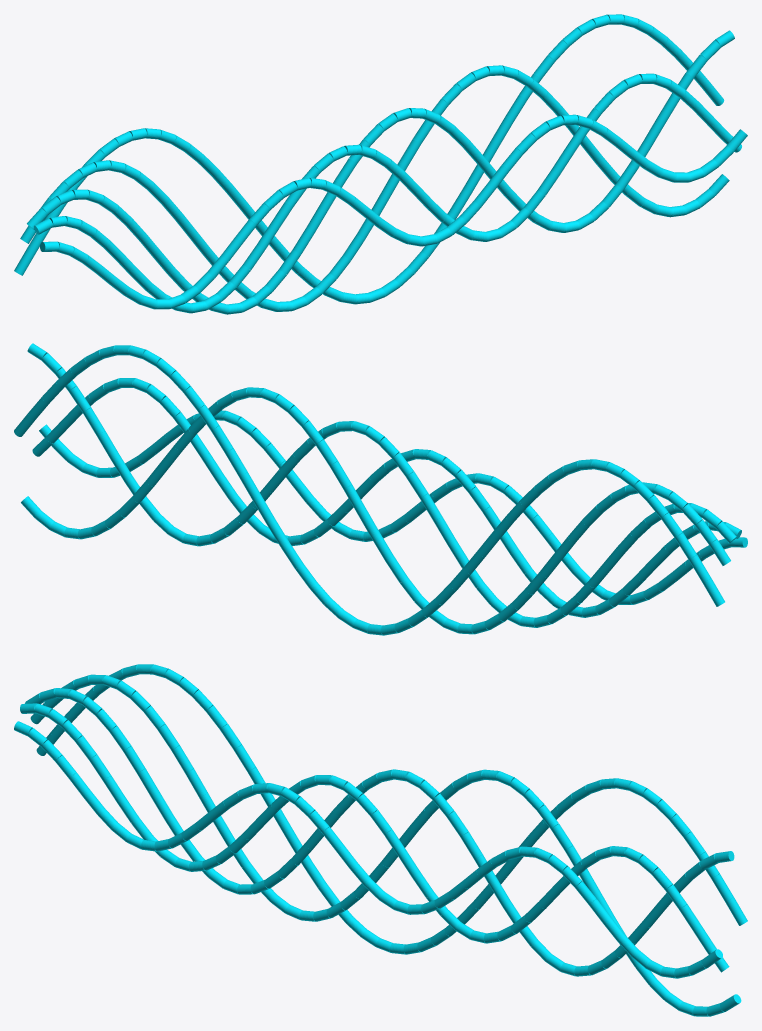
The model's file is wave.glb.
The picture shows the model from 3 angles, top to bottom: view 1: azimuth 30°, elevation 25°; view 2: azimuth 150°, elevation 25°; view 3: azimuth 330°, elevation 25°; orthographic projection.
Visible parts, largest first — view 1: world; view 2: world; view 3: world.
Part boxes in pixels (left/top/right/bottom): world: left=14, top=14, right=747, bottom=314; world: left=14, top=343, right=747, bottom=635; world: left=14, top=664, right=747, bottom=1016.
Bounding box in the file's own units: 4.04 × 1.25 × 0.29.
